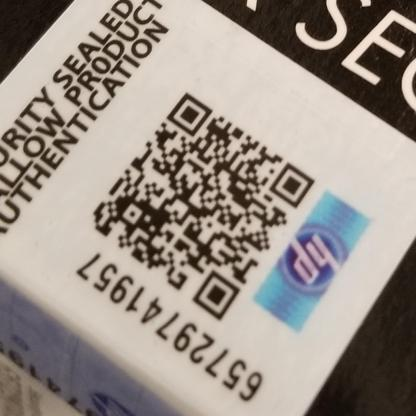qr: (83, 86, 321, 323)
